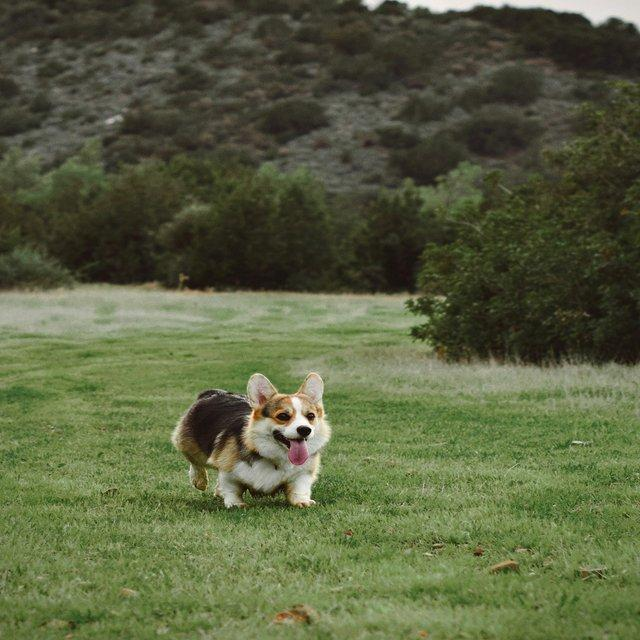corgi: (170, 370, 331, 510)
